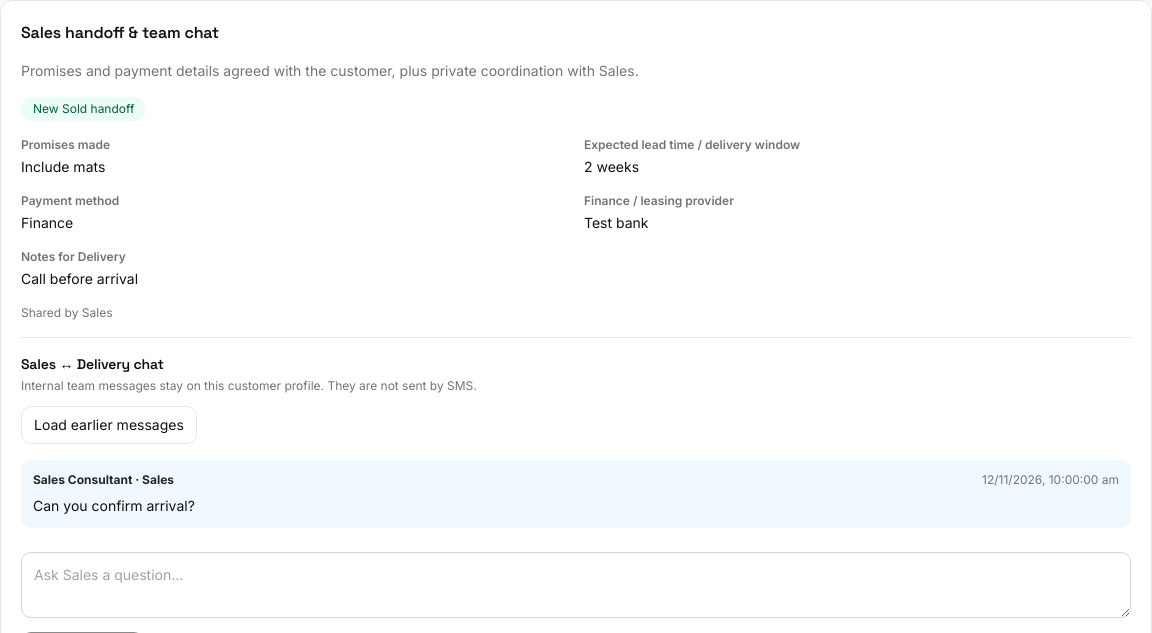
earlier messages remain visible after a live conversation refresh
The width and height of the screenshot is (1152, 633).
Click the button "Load earlier messages": (109, 425) [21,406,197,444]
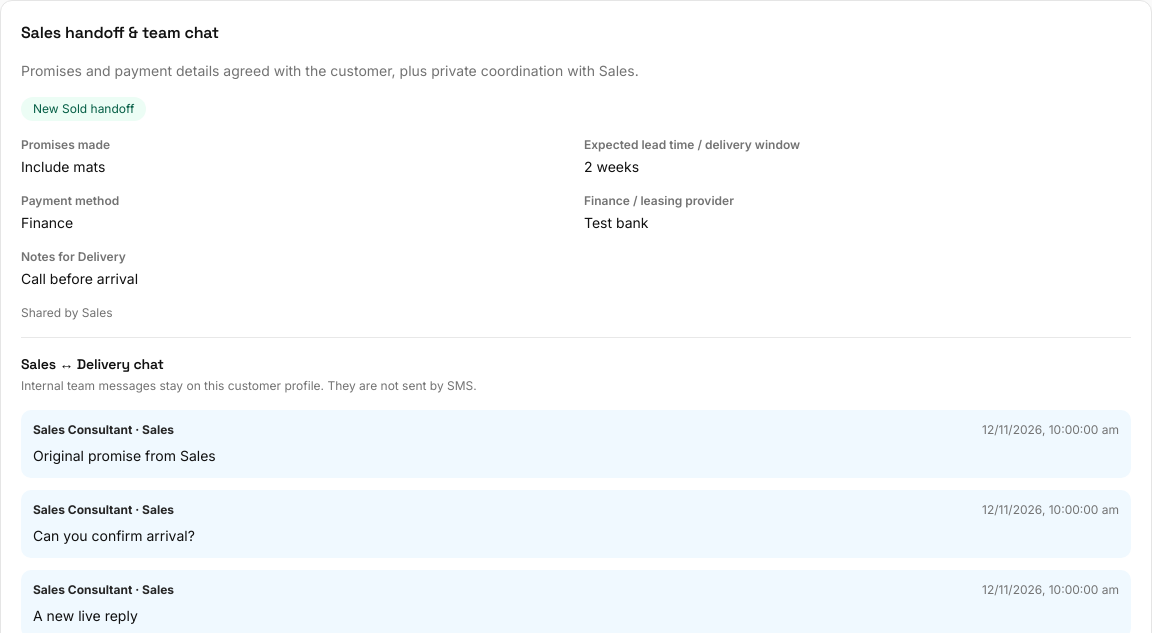
Expected: the text "Can you confirm arrival?" is shown, [33,527,195,544]
Result: the text "Original promise from Sales" is shown at [33,447,216,464]
Result: the text "A new live reply" is shown at [33,607,138,624]
